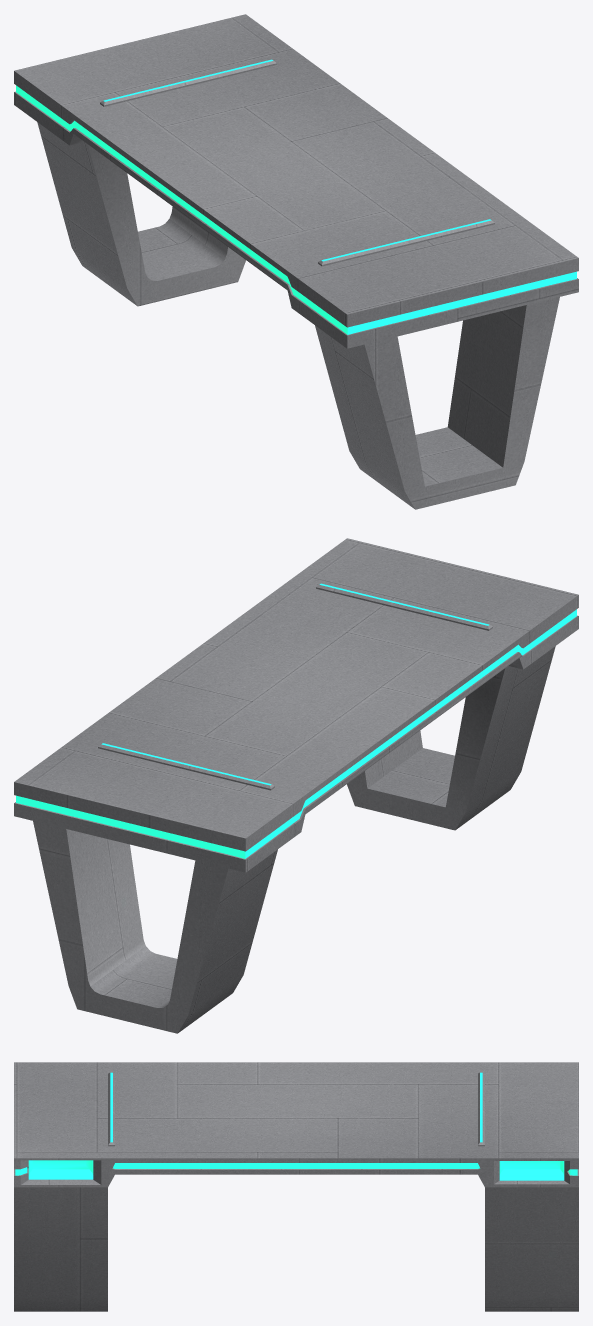
Rendered from scifi_desk.glb.
The picture shows the model from 3 angles, top to bottom: view 1: azimuth 30°, elevation 25°; view 2: azimuth 150°, elevation 25°; view 3: azimuth 270°, elevation 25°; orthographic projection. The views are drawn at different scales.
Visible parts, largest first — view 1: LabDesk; view 2: LabDesk; view 3: LabDesk.
Part boxes in pixels (x1,y1,x2,y2): LabDesk: (14, 14, 578, 509); LabDesk: (14, 538, 578, 1033); LabDesk: (14, 1062, 578, 1311).
Size of the model in its own units: 1.22 by 1.08 by 3.03.
2 materials, 1 textured.
